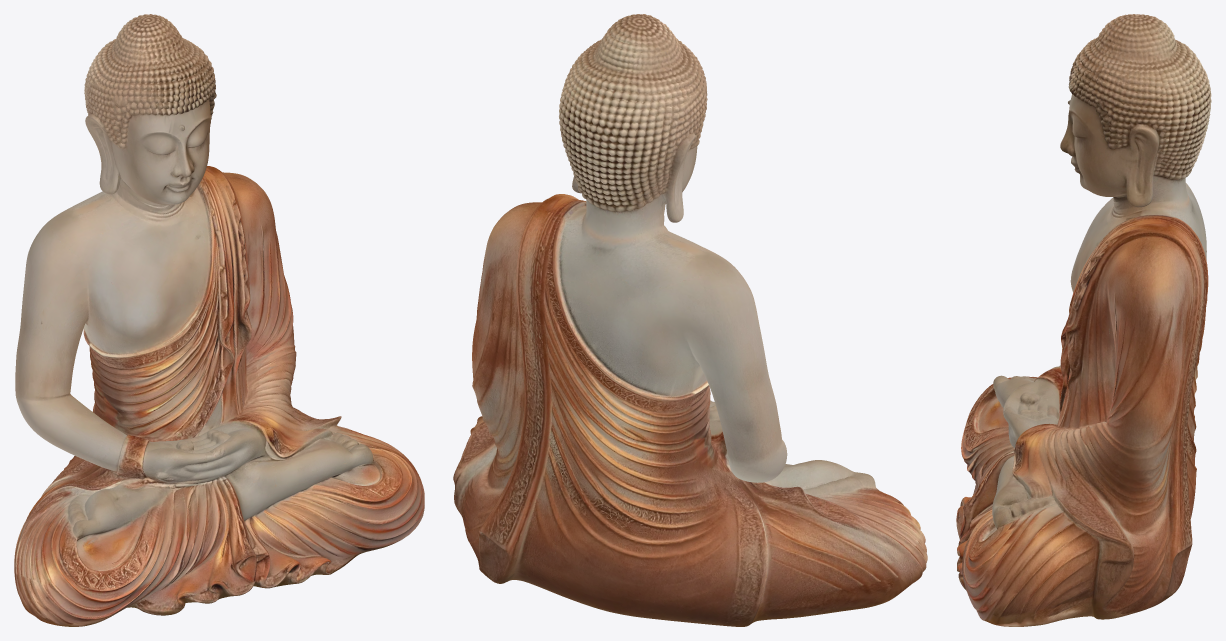
File: buda-de-bali.glb
3 renders of one model, left to right at view 1: azimuth 30°, elevation 25°; view 2: azimuth 150°, elevation 25°; view 3: azimuth 270°, elevation 25°, orthographic. The views are drawn at different scales.
Size of the model in its own units: 1.52 by 1.9 by 0.8309.
1 material, 1 textured.
